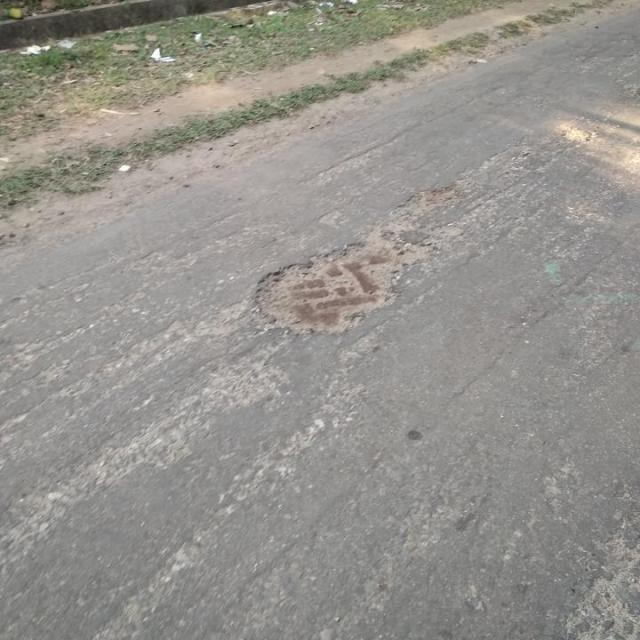pothole: (252, 230, 425, 336), (404, 183, 462, 213)
